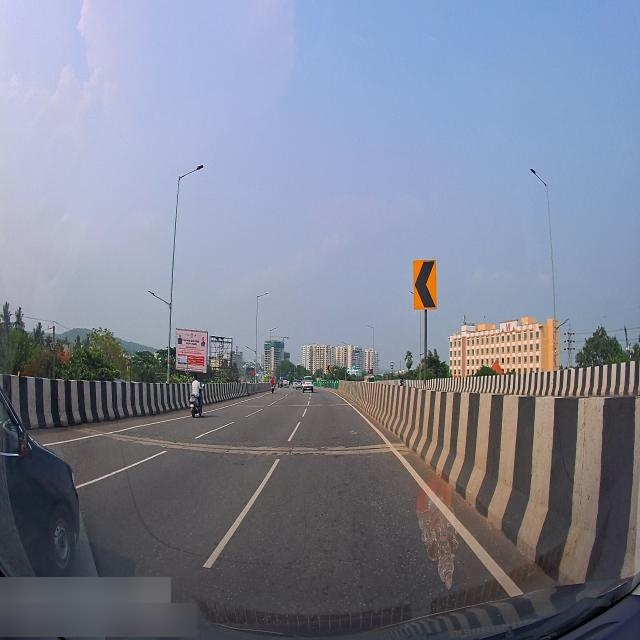pothole: (107, 422, 411, 462)
